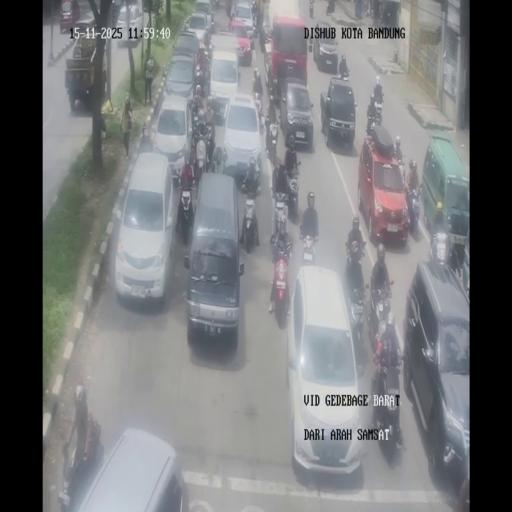3: (64, 33, 108, 111), (269, 13, 308, 90)
car: (403, 256, 469, 491), (286, 267, 360, 475), (64, 426, 185, 510), (186, 173, 245, 342), (114, 151, 176, 303), (358, 132, 408, 244), (221, 92, 262, 185), (152, 94, 193, 180), (321, 76, 357, 150), (279, 78, 314, 152), (208, 28, 242, 92), (162, 55, 198, 108), (312, 20, 338, 71), (113, 2, 141, 48), (184, 11, 212, 46), (231, 0, 256, 38), (60, 0, 81, 34), (260, 4, 271, 46)
truck: (370, 323, 404, 454), (344, 261, 368, 348), (268, 243, 292, 324), (369, 277, 395, 341), (428, 226, 455, 273), (176, 186, 196, 245), (240, 196, 260, 250), (271, 190, 291, 241), (404, 180, 421, 236), (264, 117, 279, 166), (300, 229, 319, 267), (241, 170, 262, 202), (194, 132, 208, 179), (366, 100, 383, 134), (193, 60, 208, 96), (268, 60, 280, 101), (212, 145, 226, 175), (253, 87, 264, 124), (138, 124, 152, 150), (191, 110, 202, 143), (397, 152, 406, 187), (338, 54, 349, 77), (208, 0, 215, 25), (326, 0, 335, 15), (309, 2, 314, 18)
